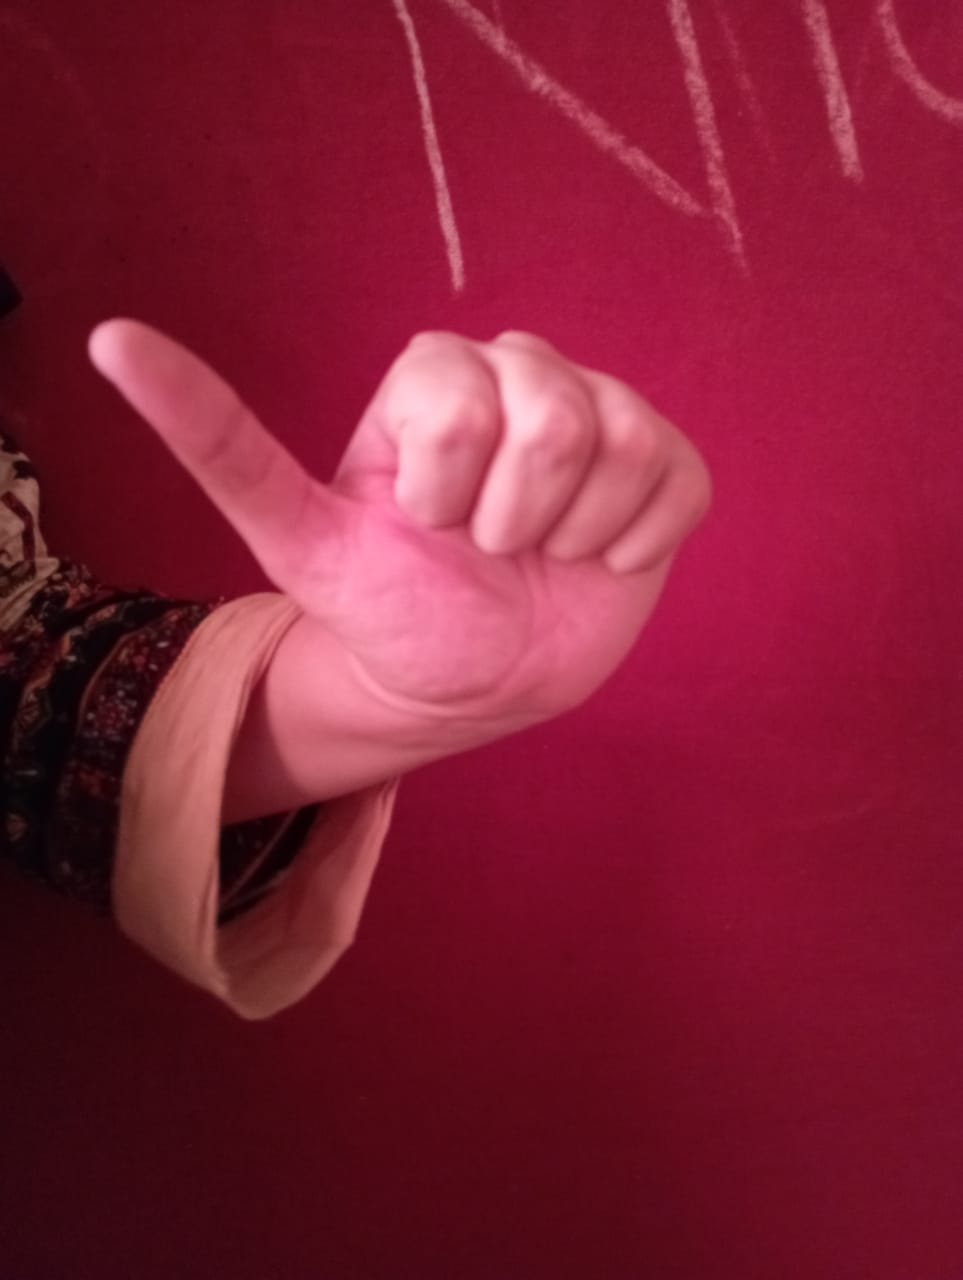I Like It: (70, 282, 732, 741)
